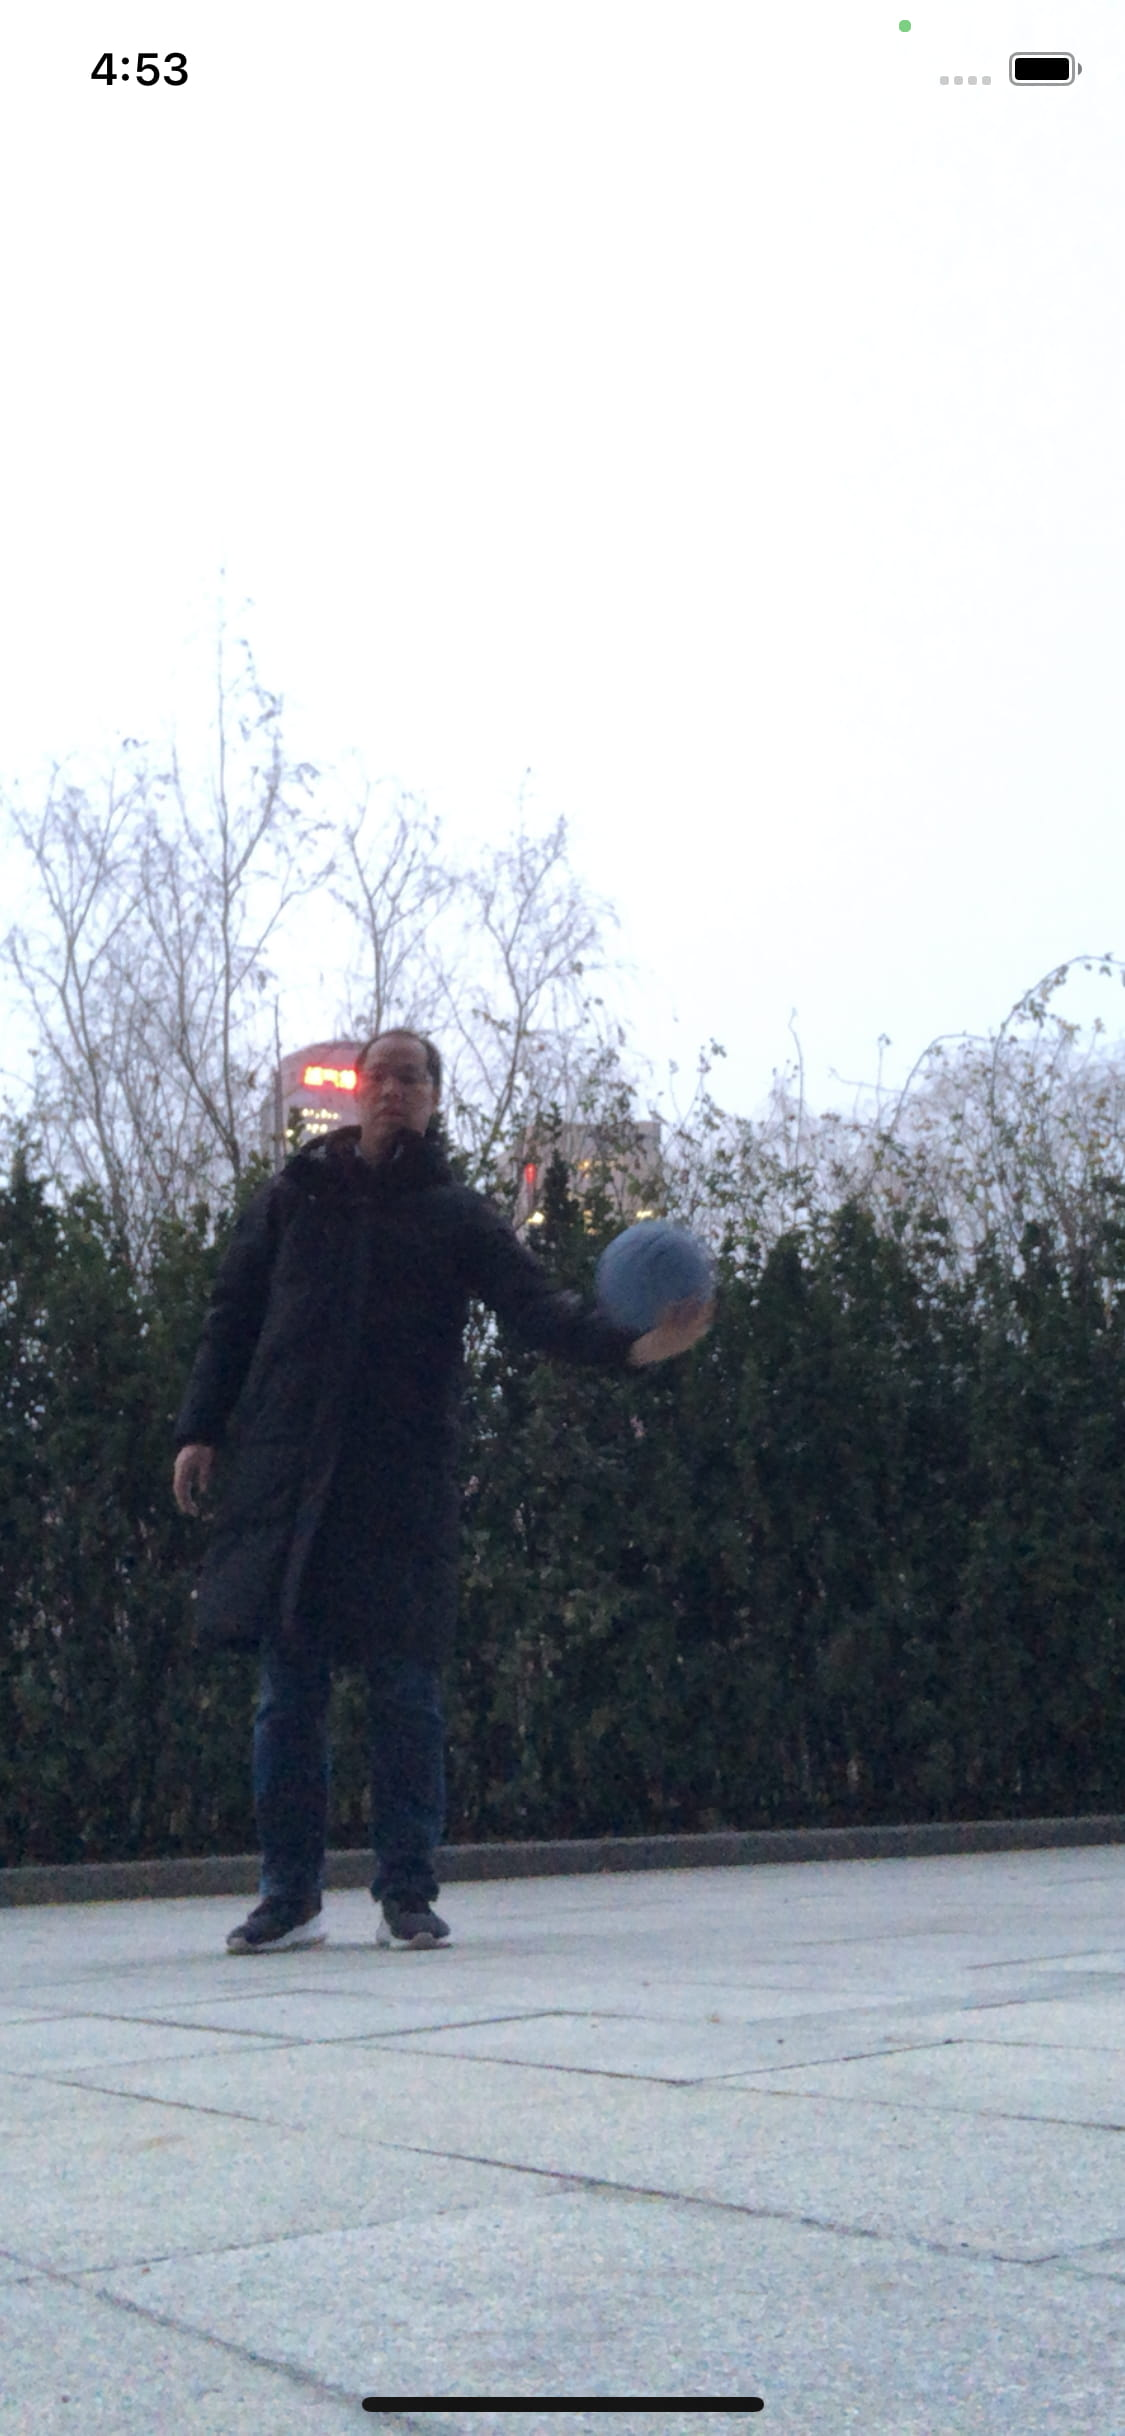ball: (601, 1215, 713, 1341)
